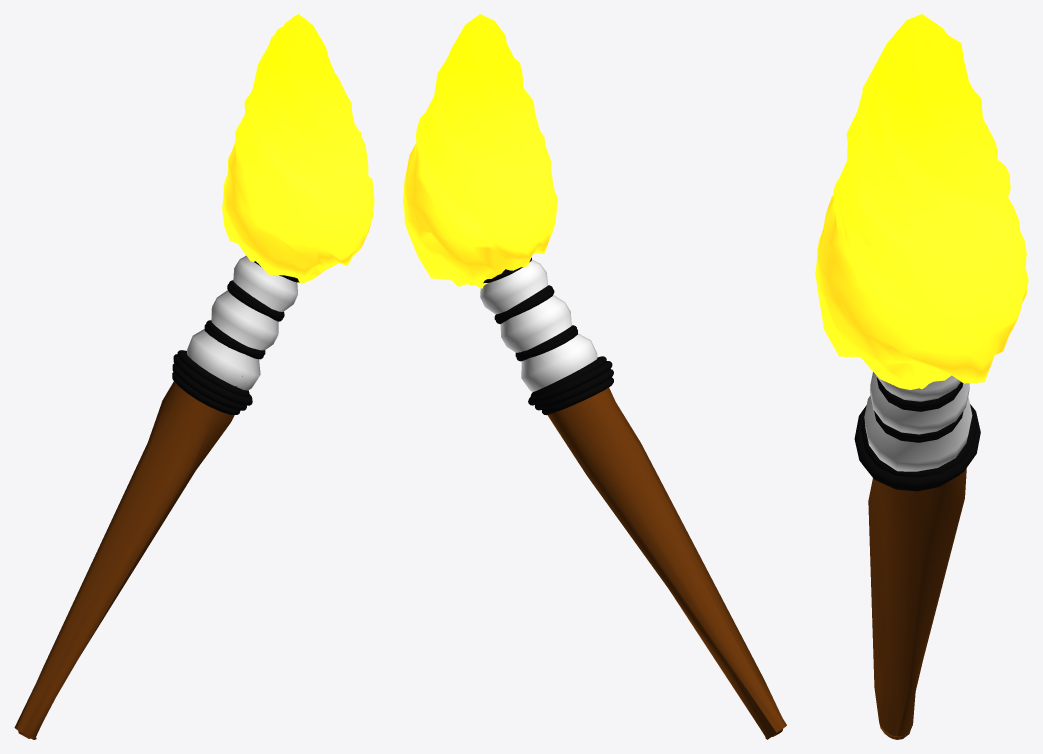
The model's file is final_torch.glb.
The picture shows the model from 3 angles, left to right: view 1: azimuth 30°, elevation 25°; view 2: azimuth 150°, elevation 25°; view 3: azimuth 270°, elevation 25°; orthographic projection. The views are drawn at different scales.
Visible parts, largest first — view 1: Sphere, Cylinder, Cube, Cube.001; view 2: Sphere, Cylinder, Cube, Cube.001; view 3: Sphere, Cylinder, Cube, Cube.001.
Part boxes in pixels (<box>): Sphere: <box>222,14,374,283</box>; Cylinder: <box>14,376,247,739</box>; Cube: <box>187,255,297,390</box>; Cube.001: <box>172,261,299,414</box>; Sphere: <box>403,14,557,288</box>; Cylinder: <box>547,387,786,739</box>; Cube: <box>480,259,597,391</box>; Cube.001: <box>483,257,613,415</box>; Sphere: <box>815,14,1028,389</box>; Cylinder: <box>868,460,966,739</box>; Cube: <box>864,372,972,471</box>; Cube.001: <box>854,377,980,491</box>.
Size of the model in its own units: 1.39 by 2.43 by 0.5142.
4 materials, 3 textured.
